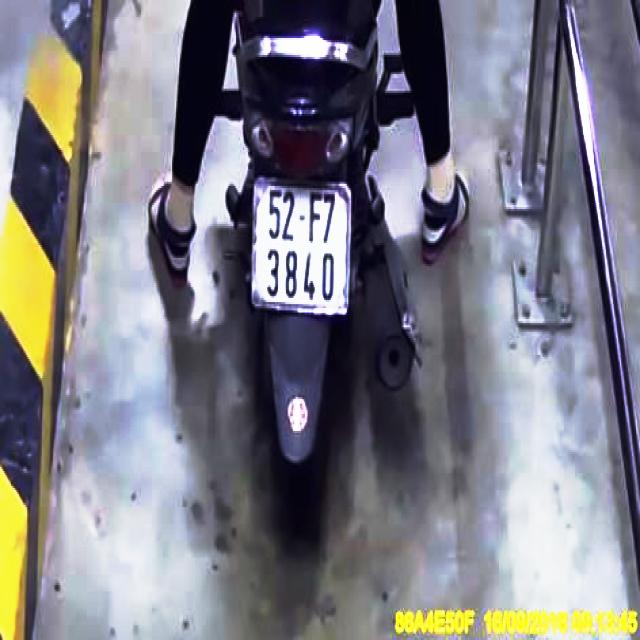license_plate: (252, 181, 348, 315)
